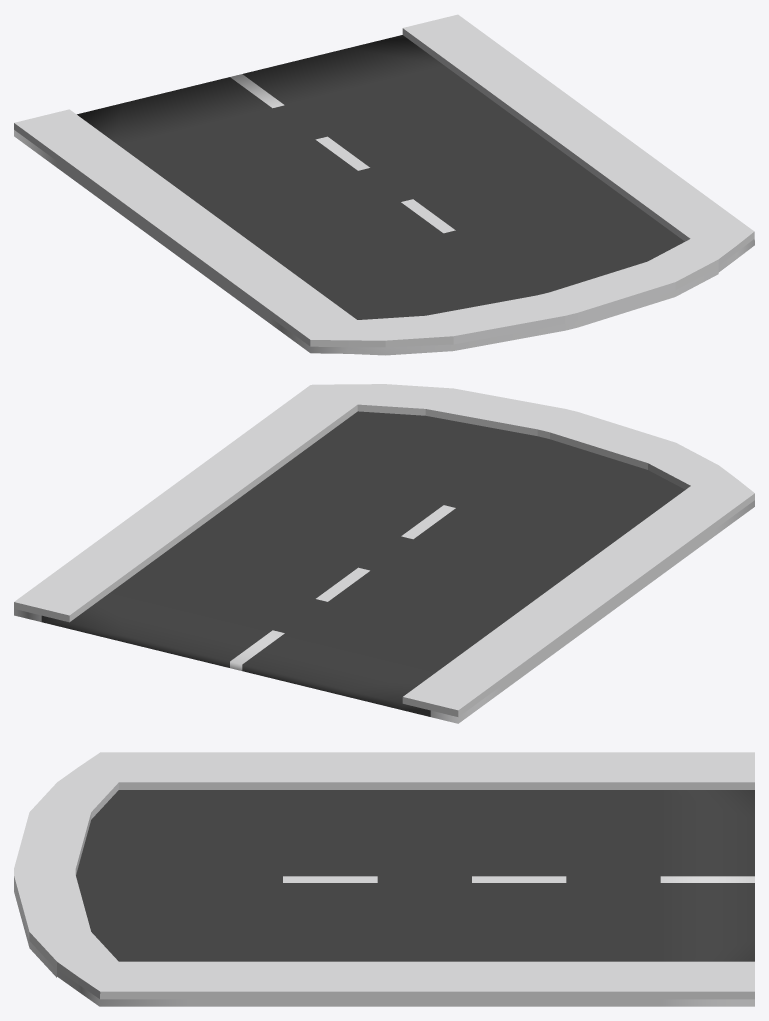
Rendered from two-lane-linear-road-end-piece-edited.fbx.
The picture shows the model from 3 angles, top to bottom: view 1: azimuth 30°, elevation 25°; view 2: azimuth 150°, elevation 25°; view 3: azimuth 270°, elevation 25°; orthographic projection. The views are drawn at different scales.
Parts seen in each view (by area): view 1: two-lane-linear-road-end-piece; view 2: two-lane-linear-road-end-piece; view 3: two-lane-linear-road-end-piece.
Part boxes in pixels (left/top/right/bottom): two-lane-linear-road-end-piece: left=14, top=14, right=754, bottom=355; two-lane-linear-road-end-piece: left=14, top=384, right=754, bottom=723; two-lane-linear-road-end-piece: left=14, top=752, right=754, bottom=1006.
Bounding box in the file's own units: 112063 × 3588 × 146640.
